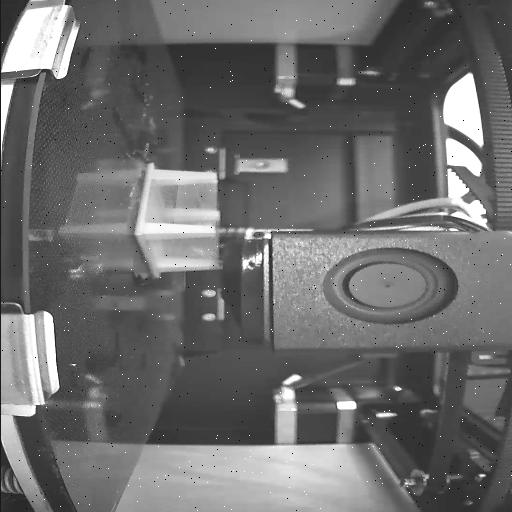stringing: (134, 176, 214, 226), (139, 237, 221, 267)
